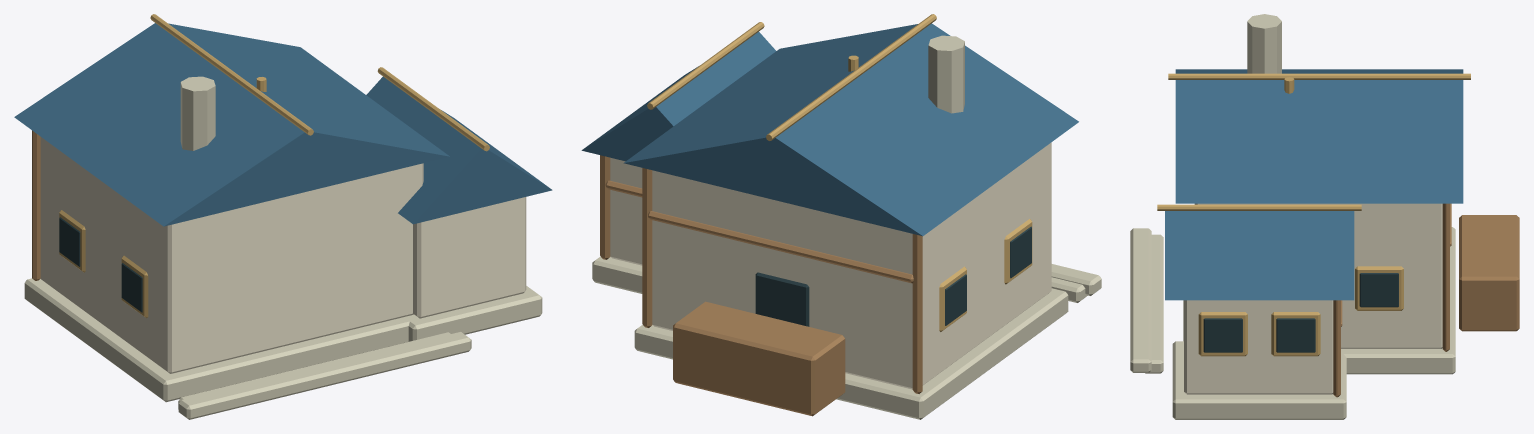
Rendered from level_14.glb.
3 views of the same model, side by side, from view 1: azimuth 30°, elevation 25°; view 2: azimuth 150°, elevation 25°; view 3: azimuth 270°, elevation 25° (orthographic). The views are drawn at different scales.
Parts seen in each view (by area): view 1: workshop — level 14; view 2: workshop — level 14; view 3: workshop — level 14.
Boxes of the visible parts, x1,y1,x2,y2 form: workshop — level 14: (14, 14, 552, 419); workshop — level 14: (581, 14, 1101, 419); workshop — level 14: (1130, 14, 1519, 419).
Bounding box in the file's own units: 5.63 × 3.8 × 5.14.
